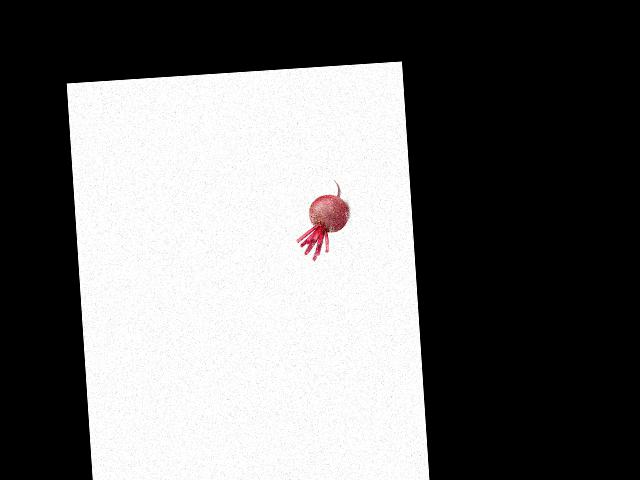beet: (293, 179, 351, 262)
